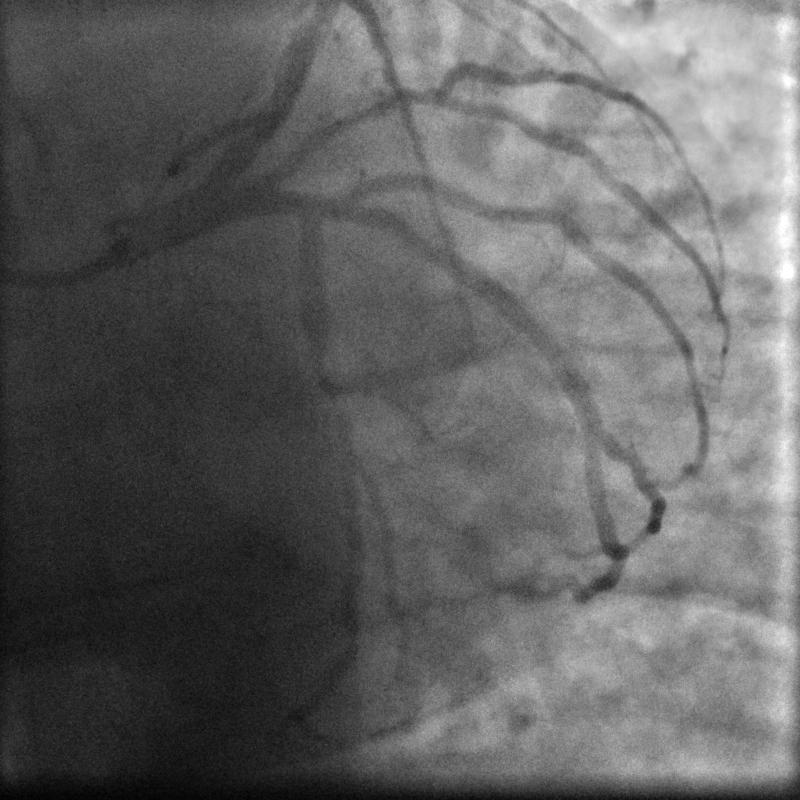Stenosis: (313, 355, 361, 465)
